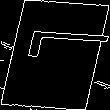L_E: (4, 37, 106, 73)
